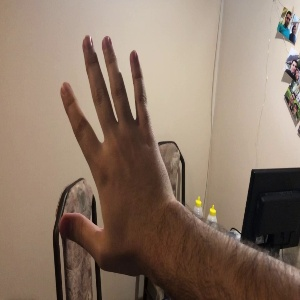hand: (61, 34, 172, 259)
